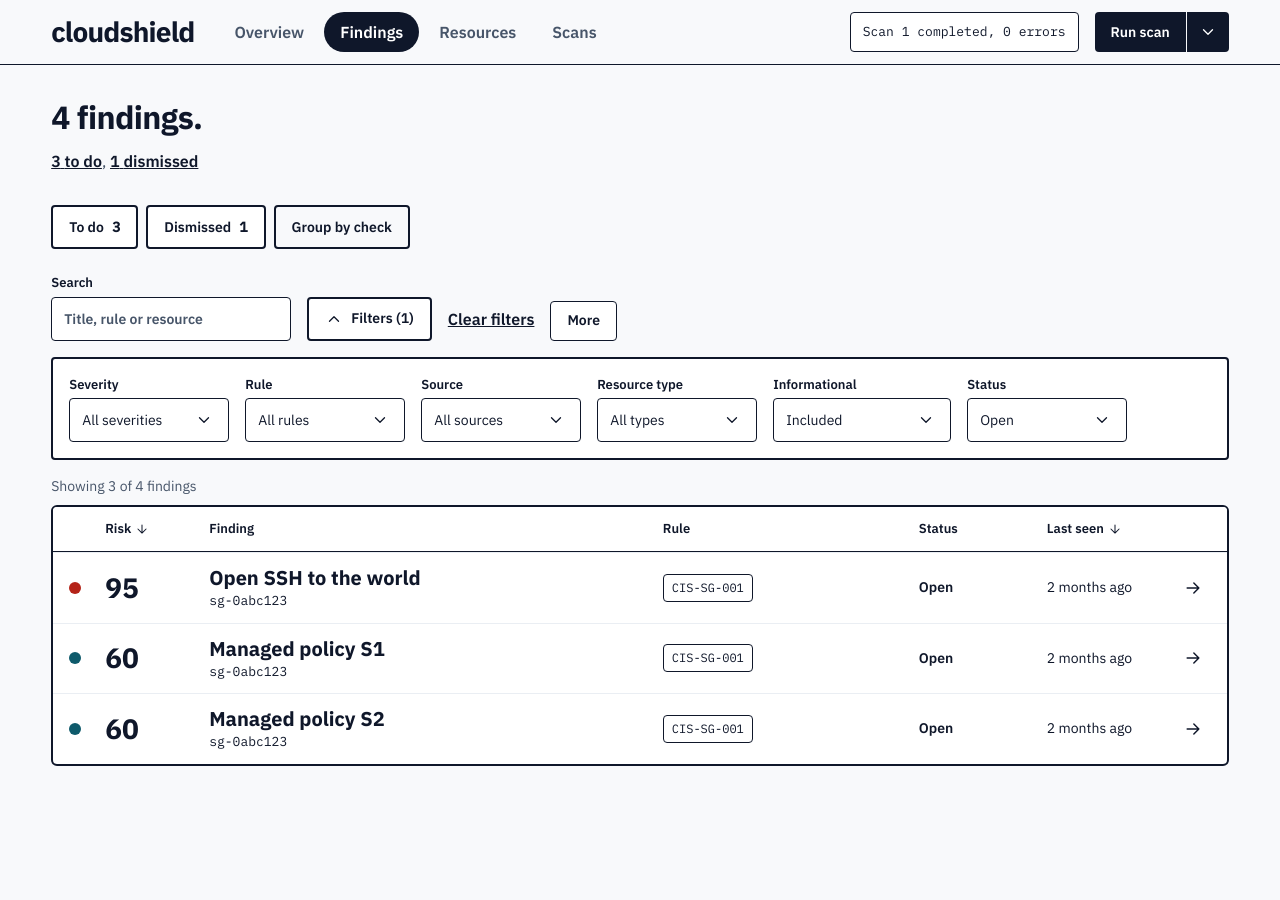
Test: Bulk dismissal of AWS-managed findings › lists what will be dismissed, with the reasons, before anything is sent
This screenshot has width=1280, height=900.
What coordinates should you click on to do the following:
click the button "More"
I would click on:
 (584, 320)
Its box is [550,300,617,340].
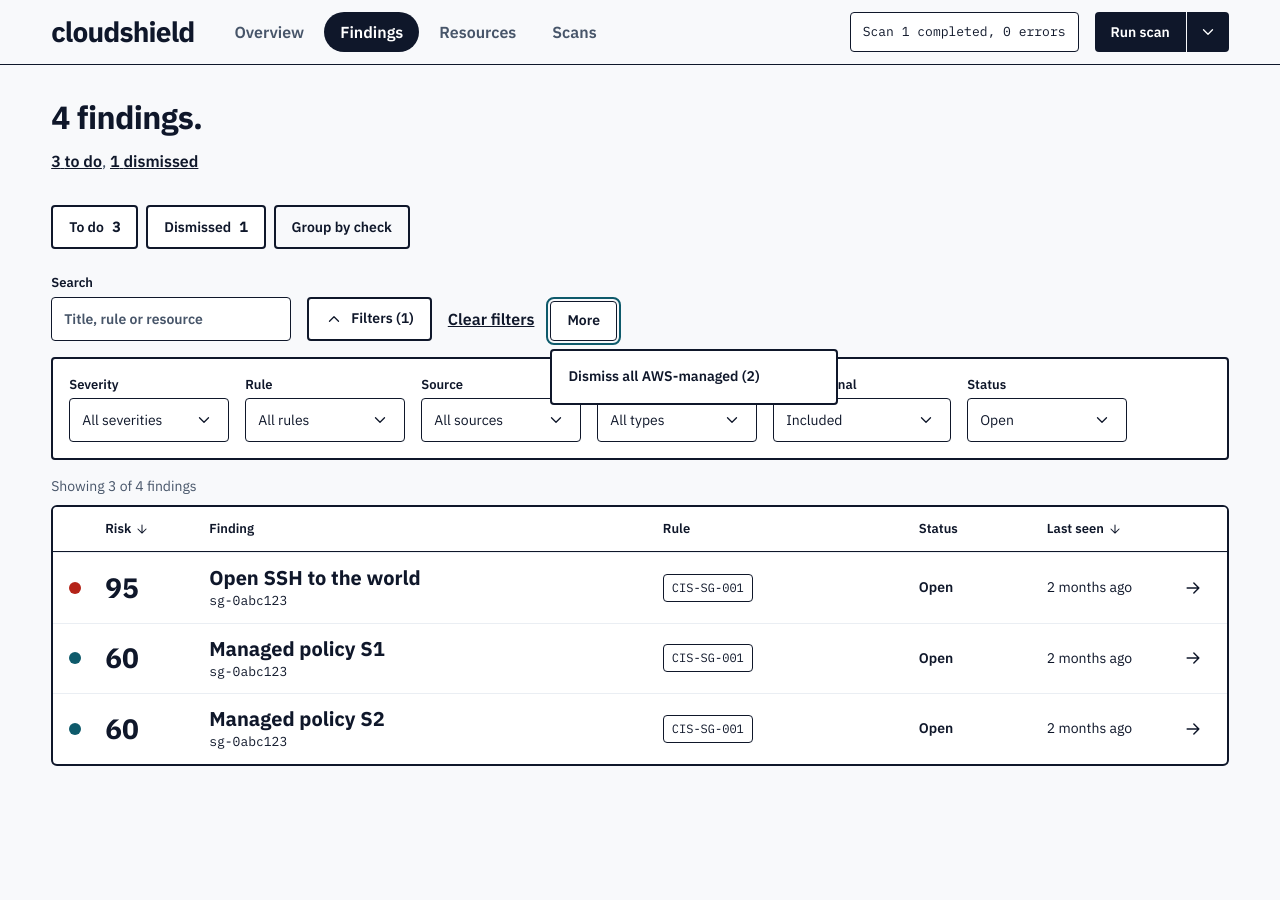
What coordinates should you click on to do the following:
click the menu item "Dismiss all AWS-managed (2)"
I would click on:
 (694, 376)
Its box is [556,354,832,398].
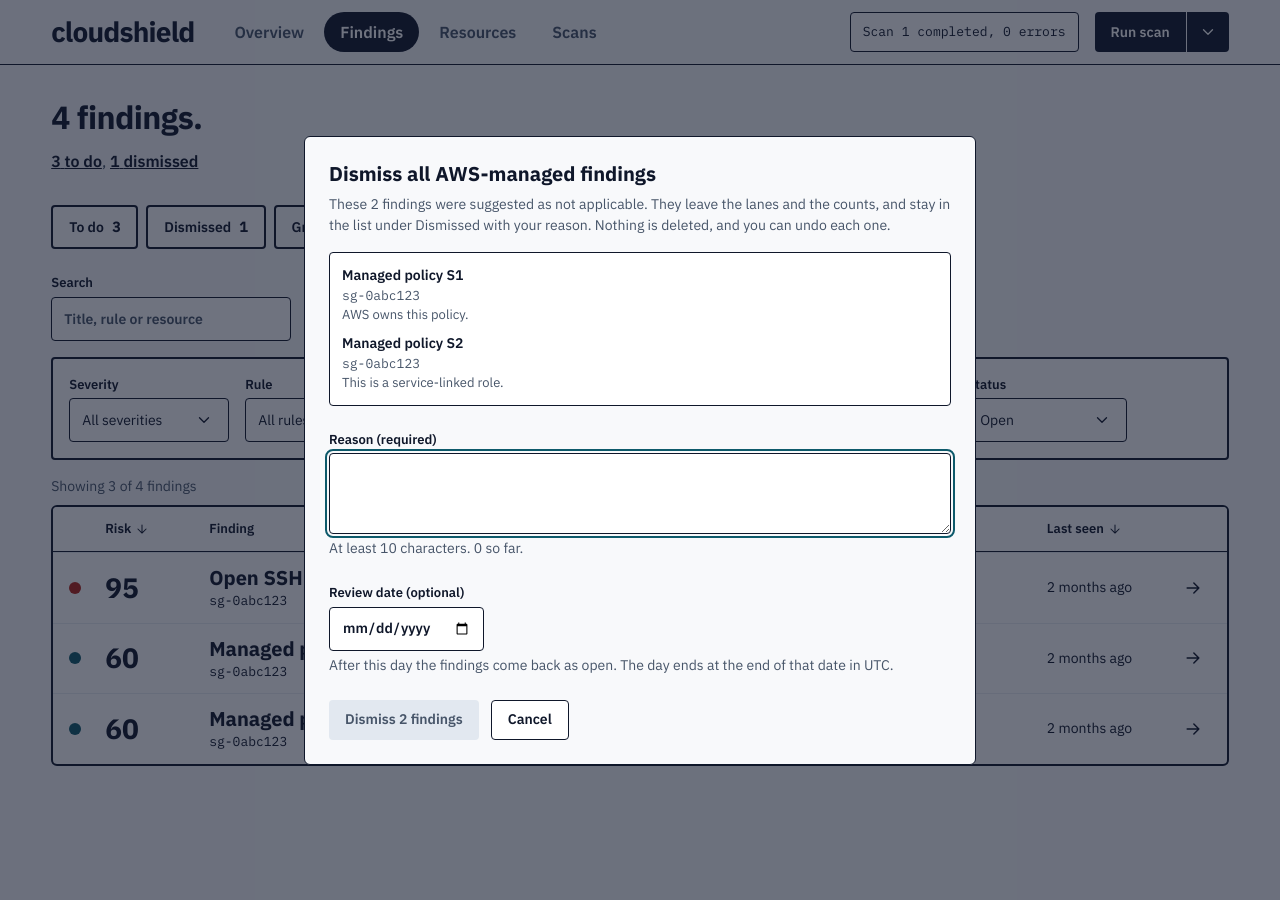
Check: the number of list items is 2, box [342,266,468,323]; [342,334,504,391]
Check: the list named "Findings that will be dismissed" shows "Managed policy S1", box [342,266,463,284]
Check: the list named "Findings that will be dismissed" shows "AWS owns this policy.", box [342,306,468,323]
